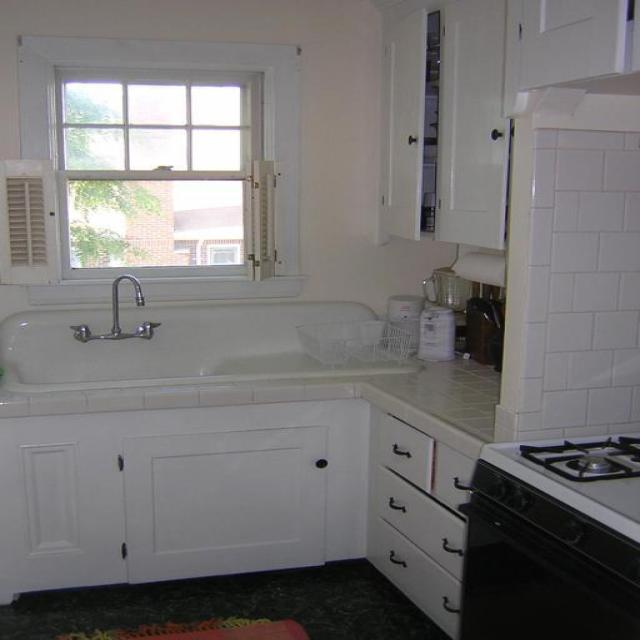crib: (292, 316, 418, 365)
cupboard: (0, 397, 368, 606), (362, 393, 482, 638)
indoor-plant: (1, 1, 638, 637)
rugs: (54, 616, 310, 639)
shelf: (378, 0, 512, 251)
